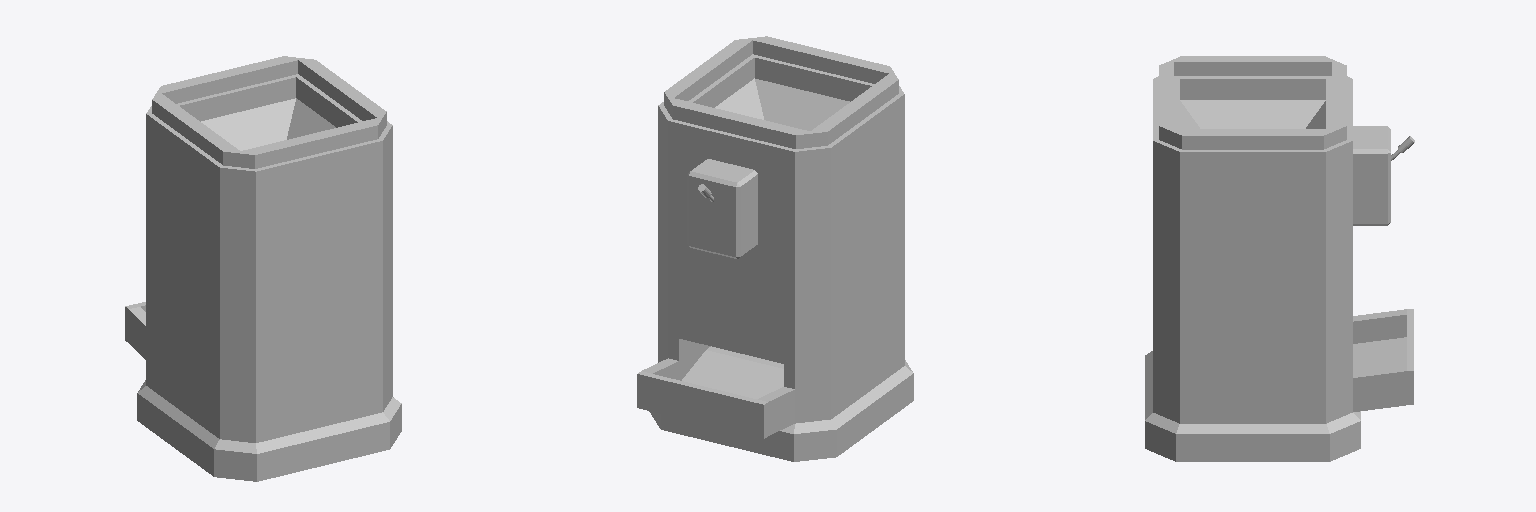
Rendered from CoffeeGrinder.obj.
3 views of the same model, side by side, from view 1: azimuth 30°, elevation 25°; view 2: azimuth 150°, elevation 25°; view 3: azimuth 270°, elevation 25° (orthographic).
Parts seen in each view (by area): view 1: Cylinder; view 2: Cylinder; view 3: Cylinder.
Part boxes in pixels (x1,y1,x2,y2): Cylinder: (125,56,401,481); Cylinder: (637,36,913,461); Cylinder: (1145,56,1414,461).
Bounding box in the file's own units: 141 × 230 × 176.